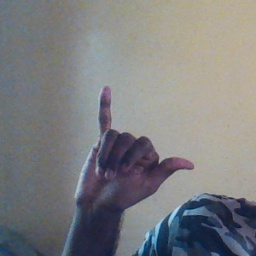J: (76, 86, 198, 213)
